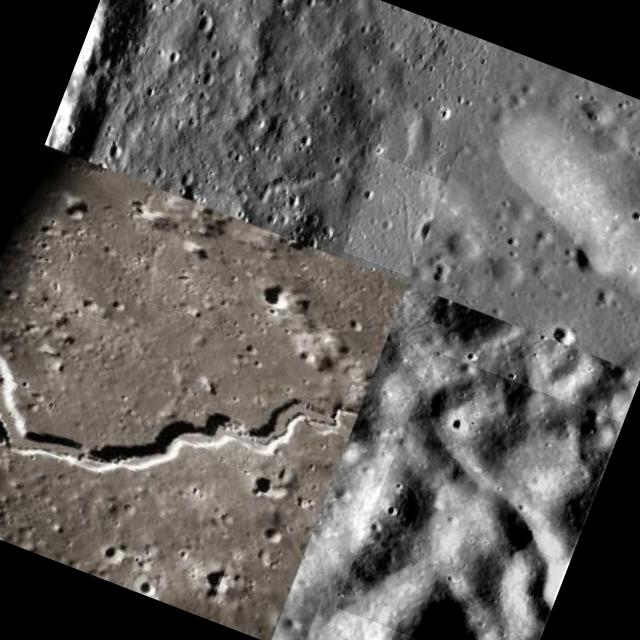rille: (0, 208, 382, 564), (336, 351, 621, 640), (343, 157, 446, 277)
